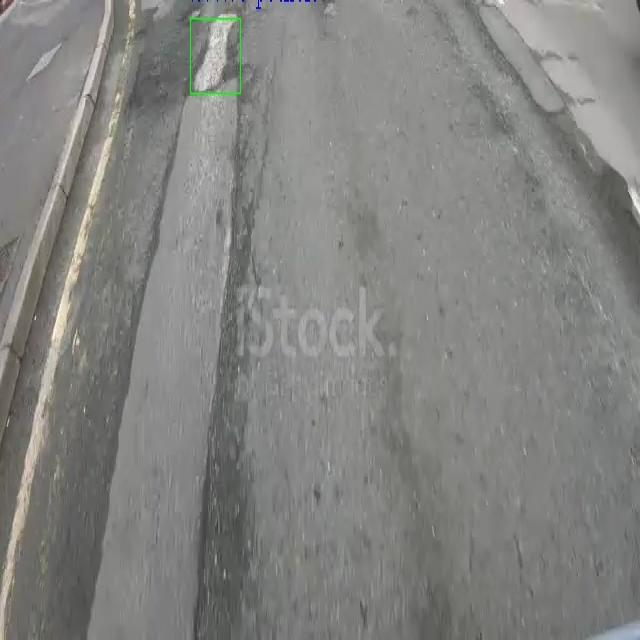pothole: (192, 21, 239, 92)
